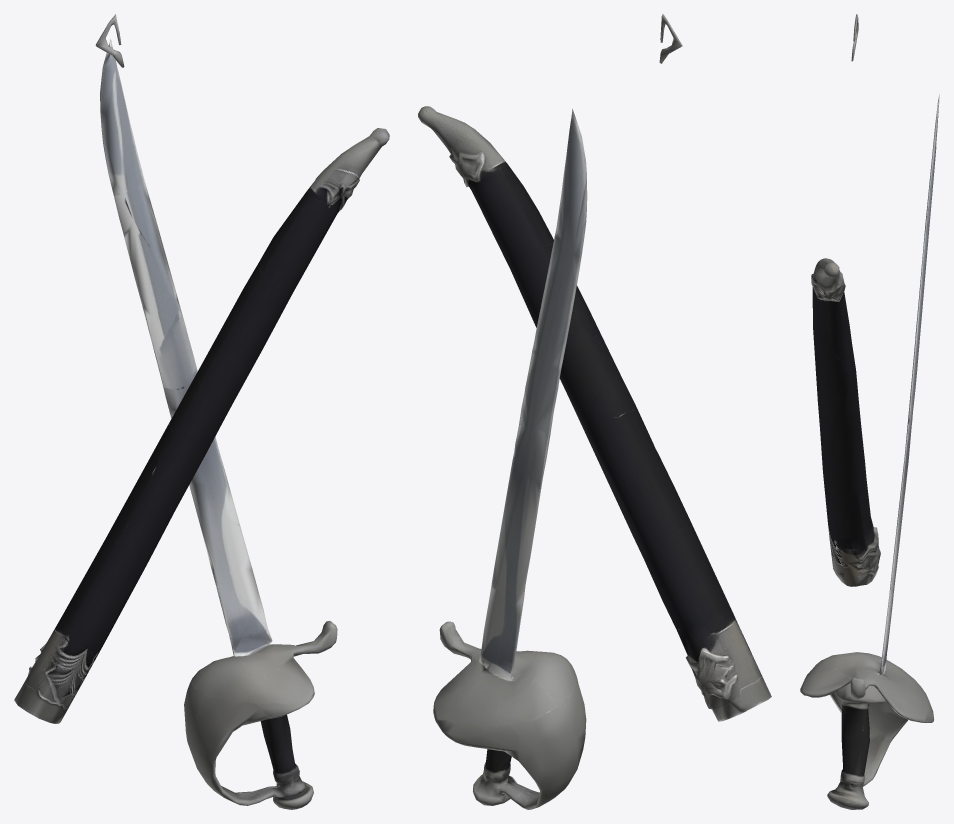
Rendered from 1244_rapier.glb.
3 views of the same model, side by side, from view 1: azimuth 30°, elevation 25°; view 2: azimuth 150°, elevation 25°; view 3: azimuth 270°, elevation 25° (orthographic). The views are drawn at different scales.
Parts seen in each view (by area): view 1: Model; view 2: Model; view 3: Model.
Boxes of the visible parts, box(x1,y1,x2,y2) form: Model: box(14, 14, 389, 809); Model: box(418, 14, 771, 809); Model: box(800, 14, 939, 809).
Bounding box in the file's own units: 0.4525 × 1 × 0.1749.
1 material, 1 textured.
